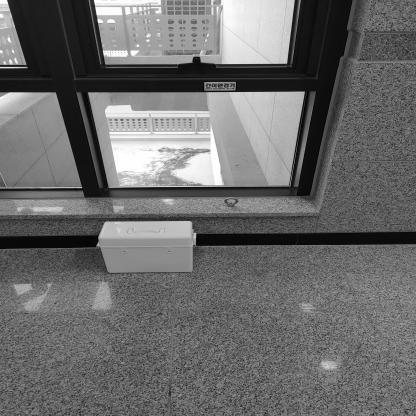DDL: (100, 220, 194, 274)
